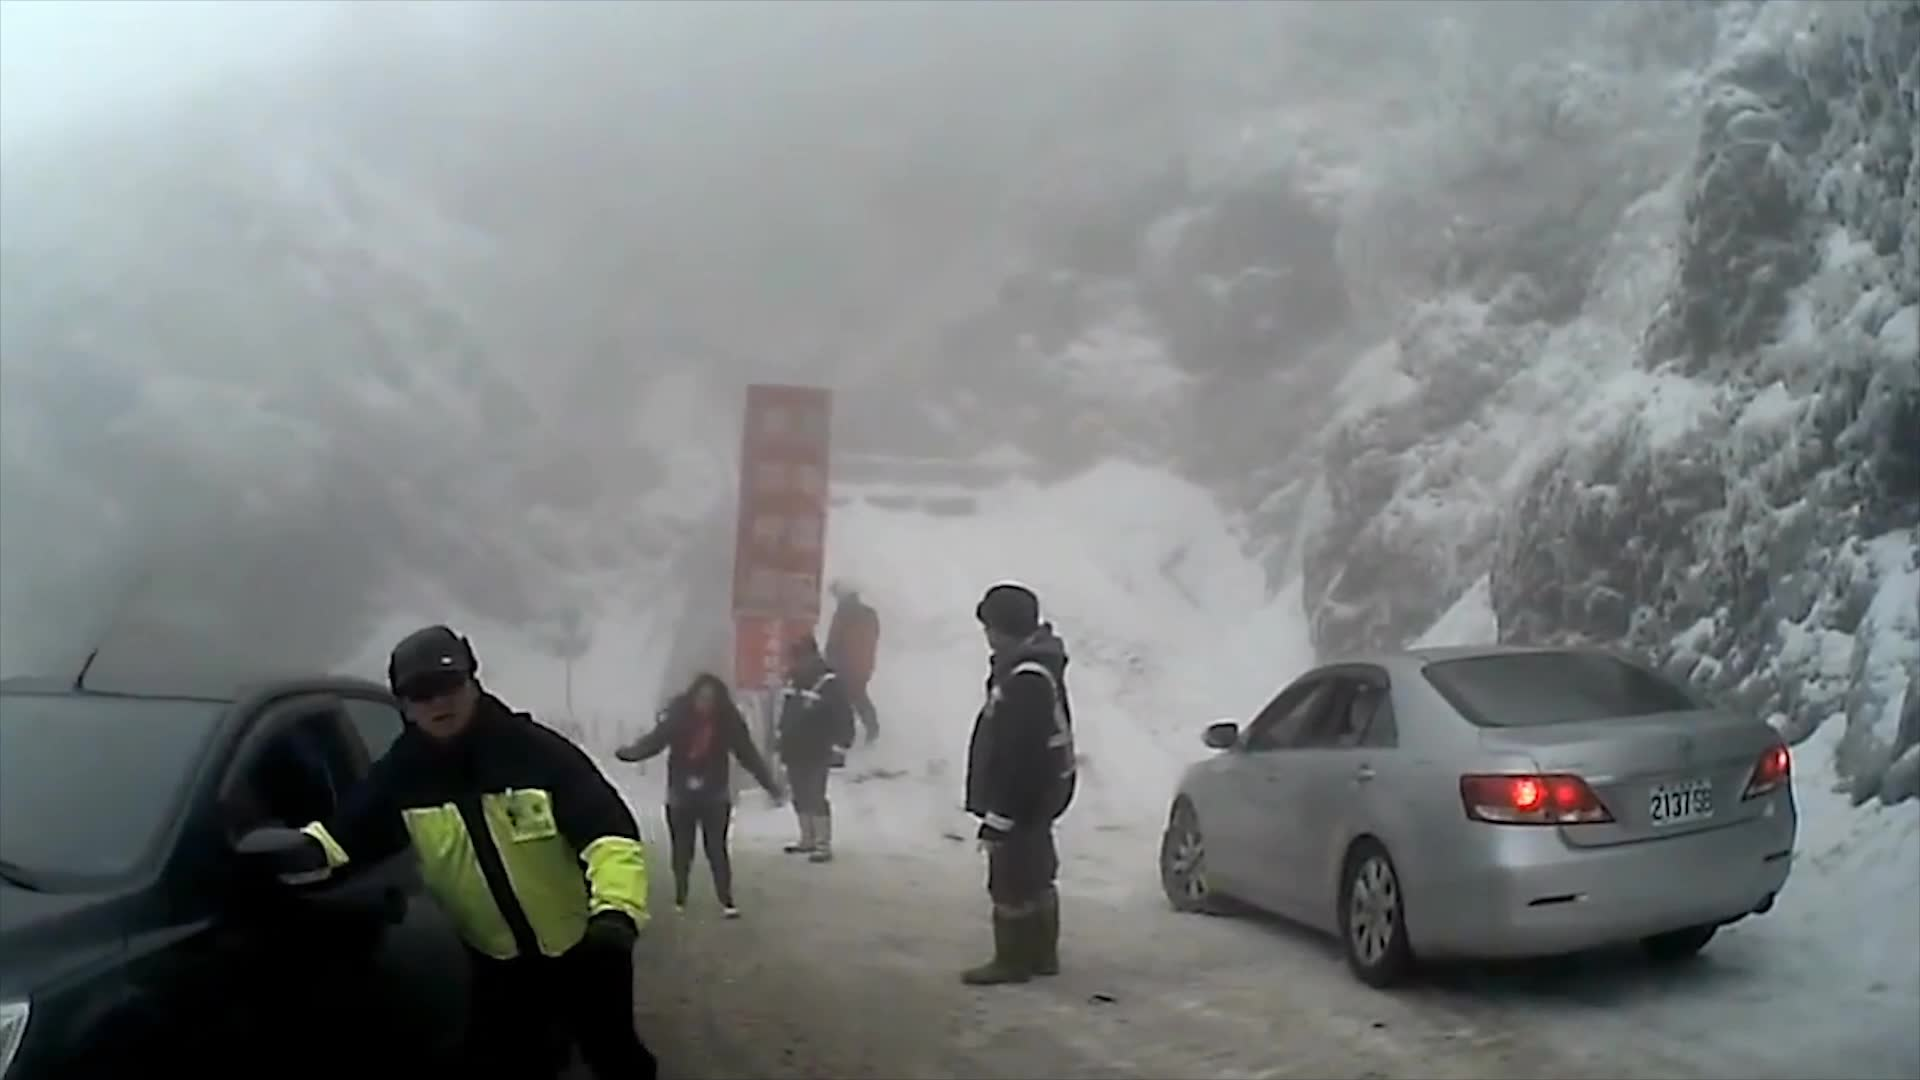pedestrian: (262, 623, 662, 1080), (952, 585, 1082, 984), (616, 671, 778, 922), (391, 645, 512, 924), (778, 641, 857, 864), (826, 575, 885, 744)
vehicle: (0, 664, 550, 1080), (1158, 638, 1798, 986)
